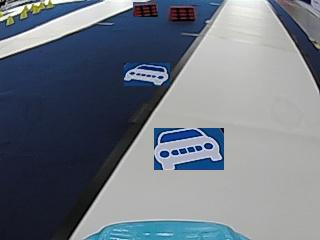bomb: (169, 5, 195, 20)
